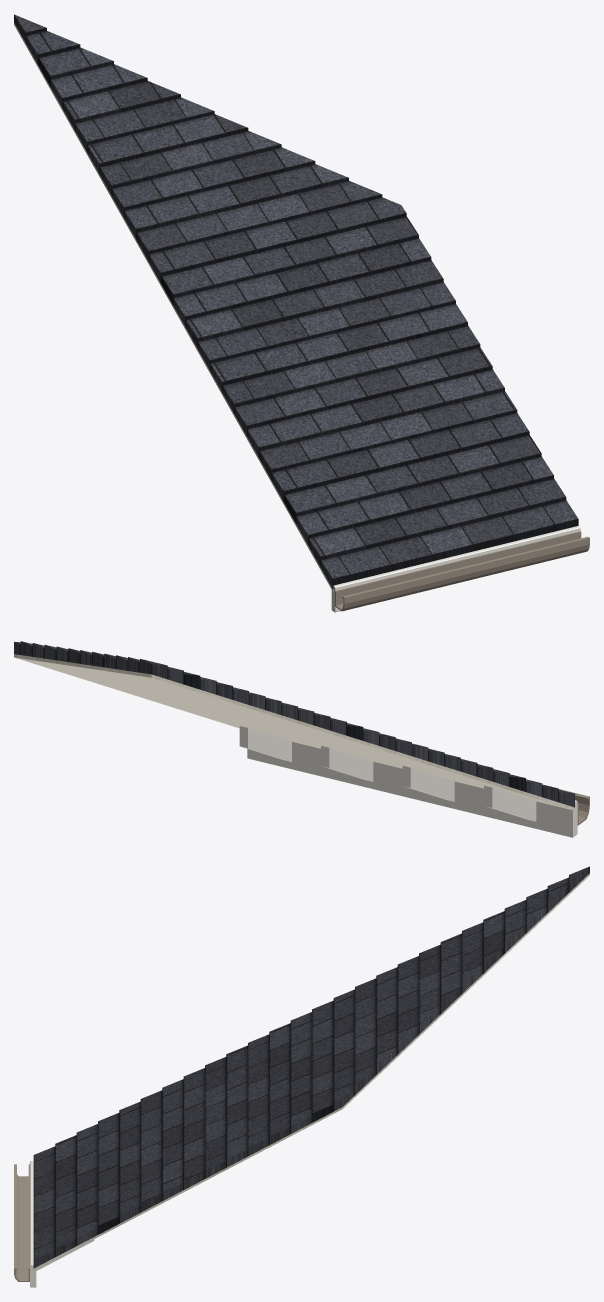
Rendered from roof_hip_3.glb.
3 renders of one model, top to bottom at view 1: azimuth 30°, elevation 25°; view 2: azimuth 150°, elevation 25°; view 3: azimuth 270°, elevation 25°, orthographic. The views are drawn at different scales.
Parts seen in each view (by area): view 1: roof_hip_3_shingles, roof_hip_3_gutter, roof_hip_3_trim, roof_hip_3_plaster; view 2: roof_hip_3_trim, roof_hip_3_plaster, roof_hip_3_shingles, roof_hip_3_gutter; view 3: roof_hip_3_shingles, roof_hip_3_gutter, roof_hip_3_plaster, roof_hip_3_trim.
Part boxes in pixels (x1,y1,x2,y2): roof_hip_3_shingles: (14, 14, 578, 589); roof_hip_3_gutter: (335, 531, 589, 611); roof_hip_3_trim: (331, 526, 580, 612); roof_hip_3_plaster: (14, 22, 333, 591); roof_hip_3_trim: (239, 726, 577, 837); roof_hip_3_plaster: (14, 654, 574, 810); roof_hip_3_shingles: (14, 641, 574, 807); roof_hip_3_gutter: (558, 789, 589, 825); roof_hip_3_shingles: (33, 866, 589, 1268); roof_hip_3_gutter: (14, 1164, 29, 1281); roof_hip_3_plaster: (33, 873, 589, 1270); roof_hip_3_trim: (30, 1161, 94, 1287).
Bounding box in the file's own units: 2 × 2.83 × 4.66.
4 materials, 2 textured.
